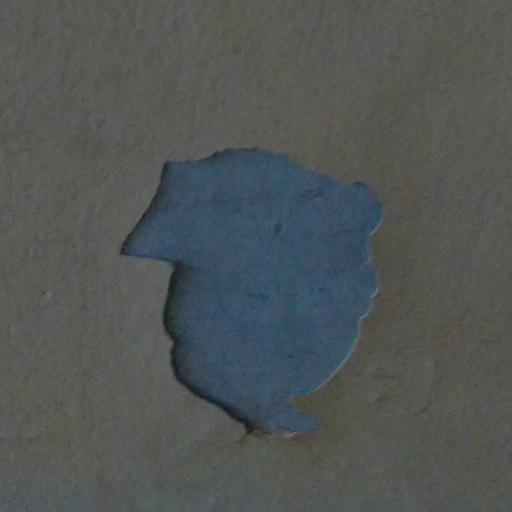peeling: (107, 149, 393, 447)
